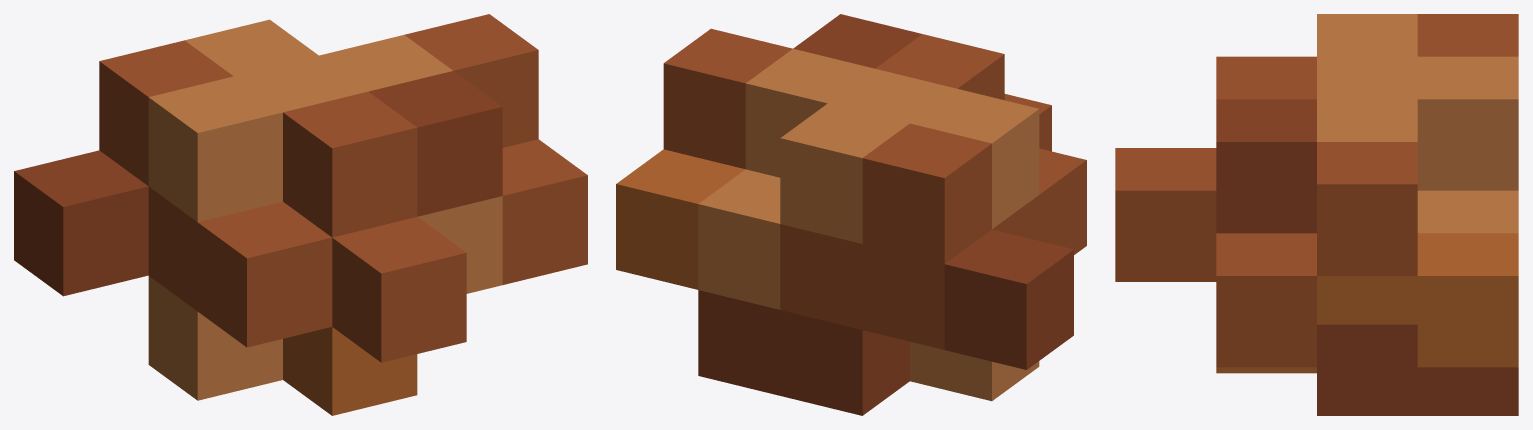
Rendered from BoulderB.fbx.
The picture shows the model from 3 angles, left to right: view 1: azimuth 30°, elevation 25°; view 2: azimuth 150°, elevation 25°; view 3: azimuth 270°, elevation 25°; orthographic projection. The views are drawn at different scales.
Visible parts, largest first — view 1: BoulderB; view 2: BoulderB; view 3: BoulderB.
Boxes of the visible parts, x1=… form: BoulderB: x1=14, y1=14, x2=587, y2=415; BoulderB: x1=616, y1=14, x2=1086, y2=415; BoulderB: x1=1115, y1=14, x2=1518, y2=415.
Size of the model in its own units: 5 by 3 by 4.
